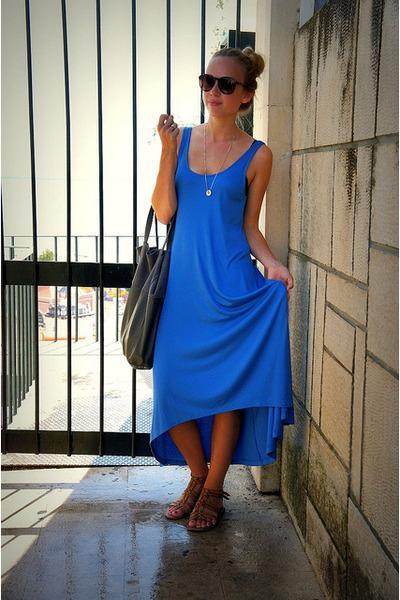bag: (118, 180, 179, 371)
dress: (144, 132, 290, 467)
shoe: (165, 492, 229, 526)
sunglass: (204, 75, 236, 94)
